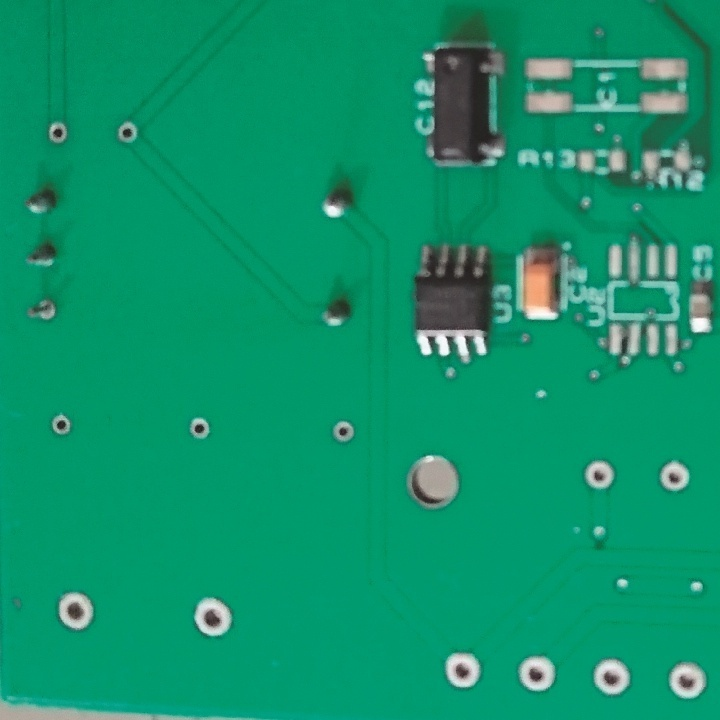F: (186, 595, 239, 639), (441, 649, 488, 692), (513, 653, 561, 695), (665, 656, 710, 700), (587, 655, 630, 698), (56, 589, 96, 634), (653, 456, 695, 498), (582, 458, 625, 494), (23, 298, 60, 326), (331, 417, 357, 449), (49, 415, 78, 443), (113, 119, 140, 148), (186, 416, 213, 442), (47, 120, 73, 146)
